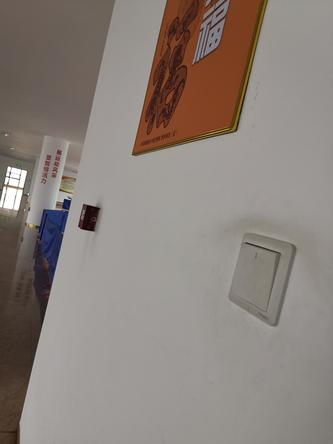switch: (226, 239, 292, 309)
